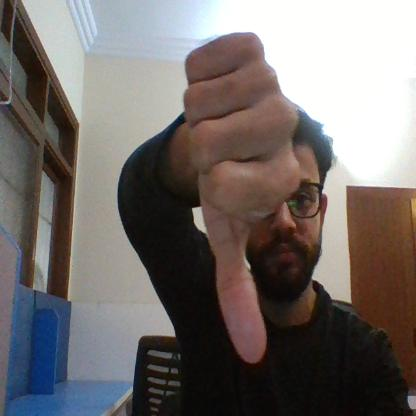thumbs-down: (182, 31, 308, 366)
